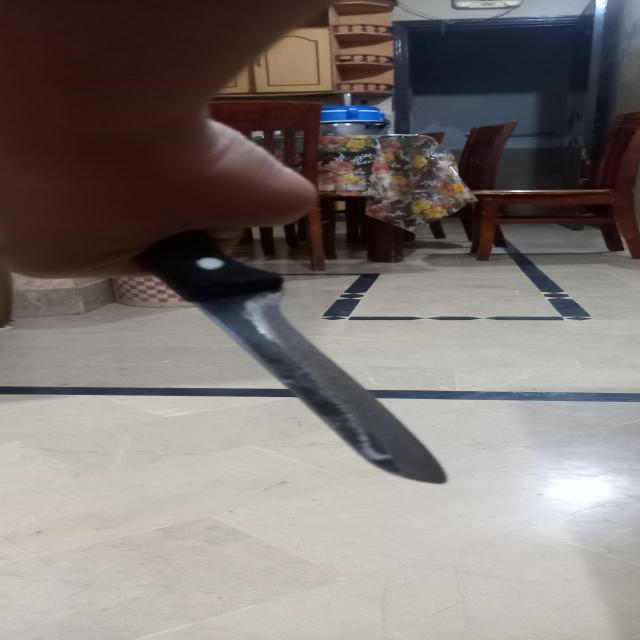Knife: (129, 224, 450, 484)
Person: (0, 0, 342, 281)
